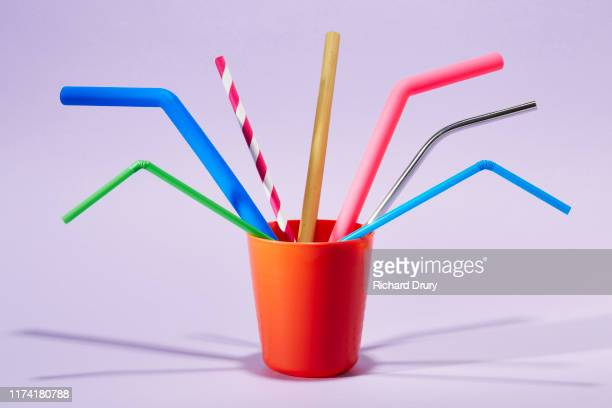Drinking Straw: (295, 29, 343, 241)
